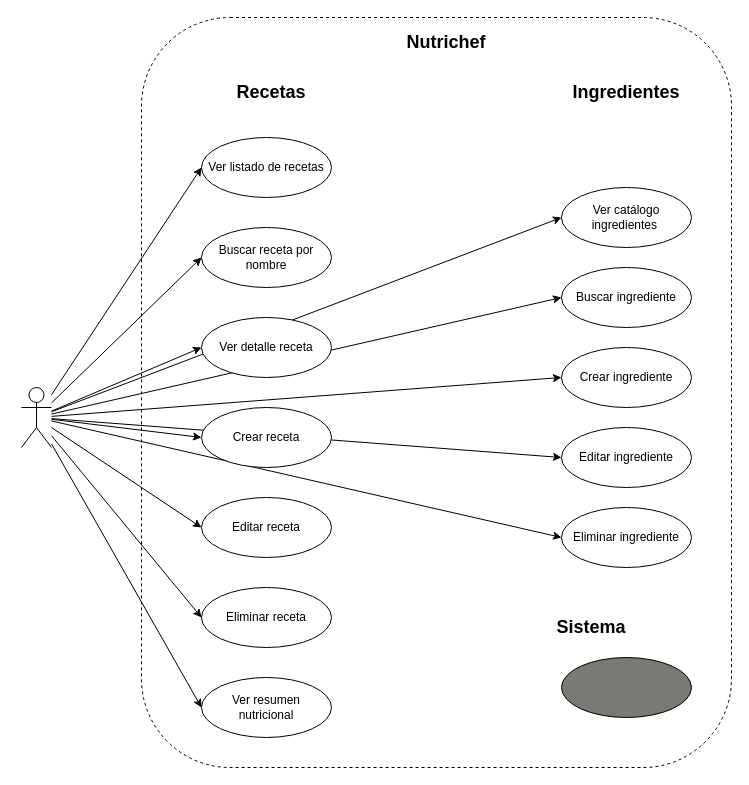
Some shapes in this 749 by 785 pixel diagram are drawn without their labels. Each missing label, with the centre of its shape:
"Cargar datos de ejemplo (primer arranque)" goes at point 626,687.
"Usuario" goes at point 36,417.
